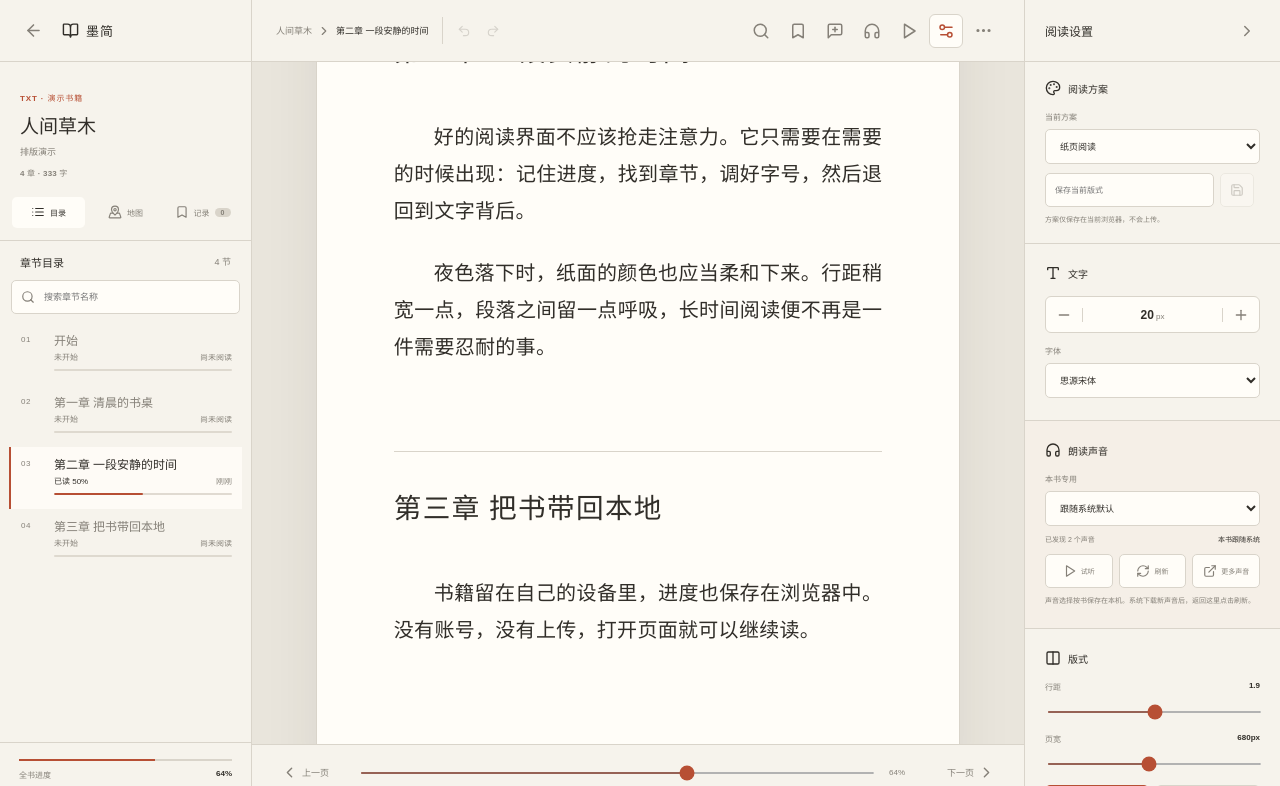
it: ReaderView interactions › supports browser speech narration with sentence focus, pause, resume and adjustable rate
(page scrolled)
Select "云希 · zh-CN · 联网" in the dropdown named "本书朗读声音" at point(1152, 509), box [1045,491,1260,526]
Click the button with aria-label "试听当前声音" at point(1079, 571), box [1045,554,1113,588]
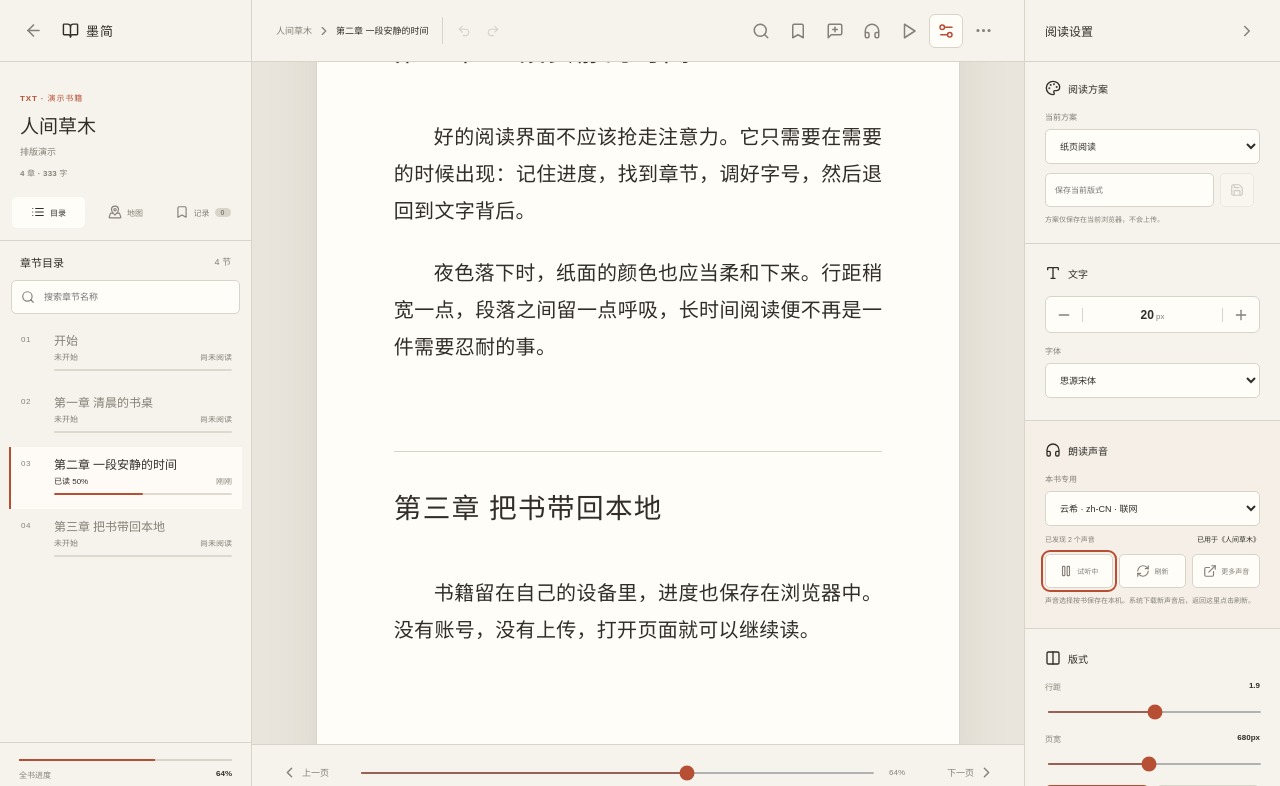
Click the button named "开始语音朗读" at point(872, 30), box [855,14,889,48]
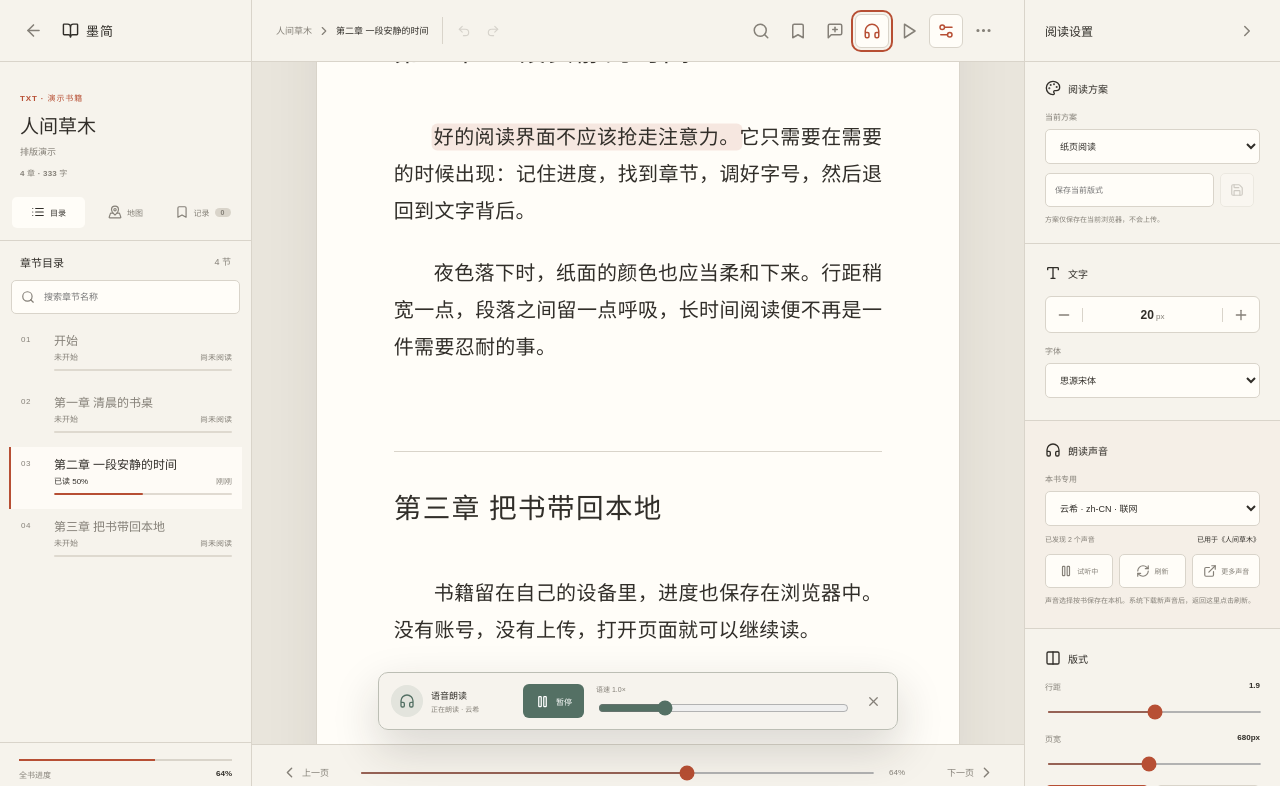
Expected: the text "好的阅读界面不应该抢走注意力。" is shown, [434,126,740,148]
Expected: the text "正在朗读" is shown, [431,706,459,712]
Expected: the text "云希" is shown, [465,706,479,712]
Click the button with aria-label "暂停语音朗读" at point(554, 701), box [523,684,584,718]
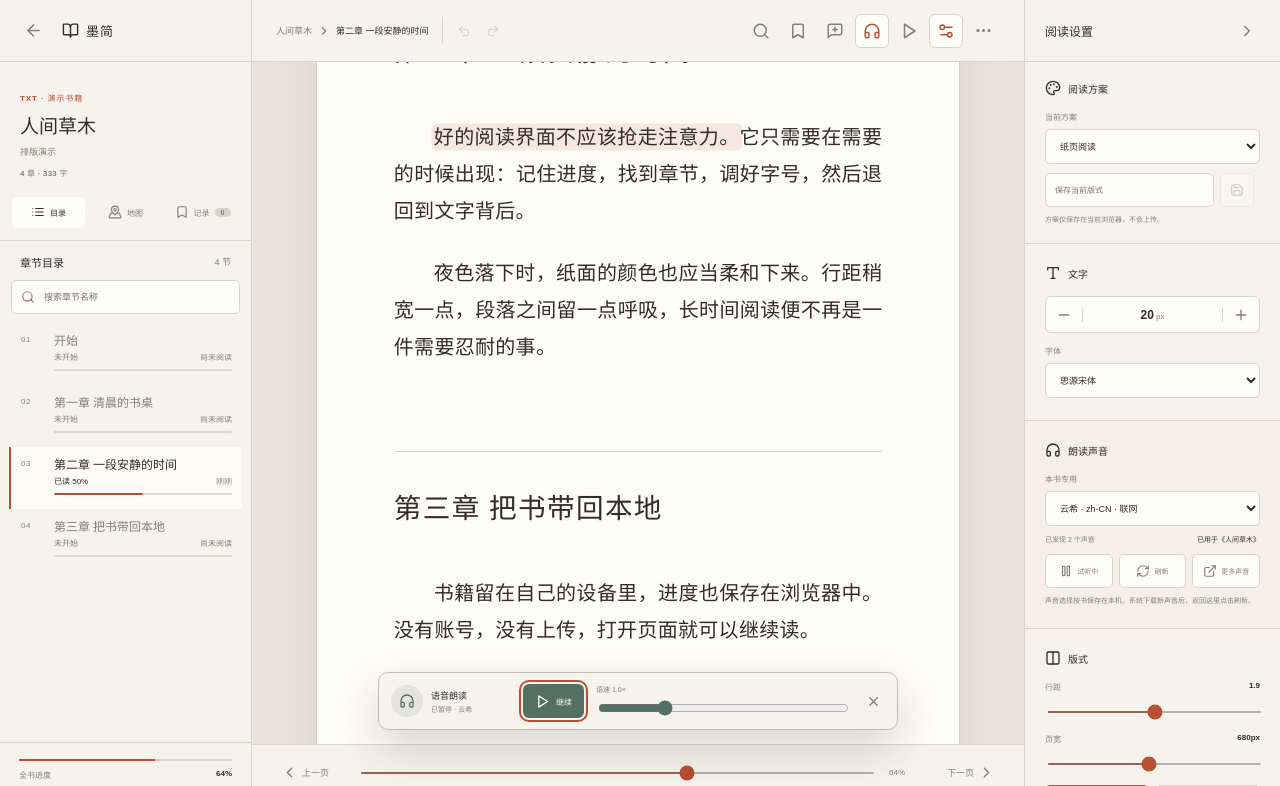
Expected: the text "已暂停" is shown, [431,706,452,712]
Click the button with aria-label "继续语音朗读" at point(554, 701), box [523,684,584,718]
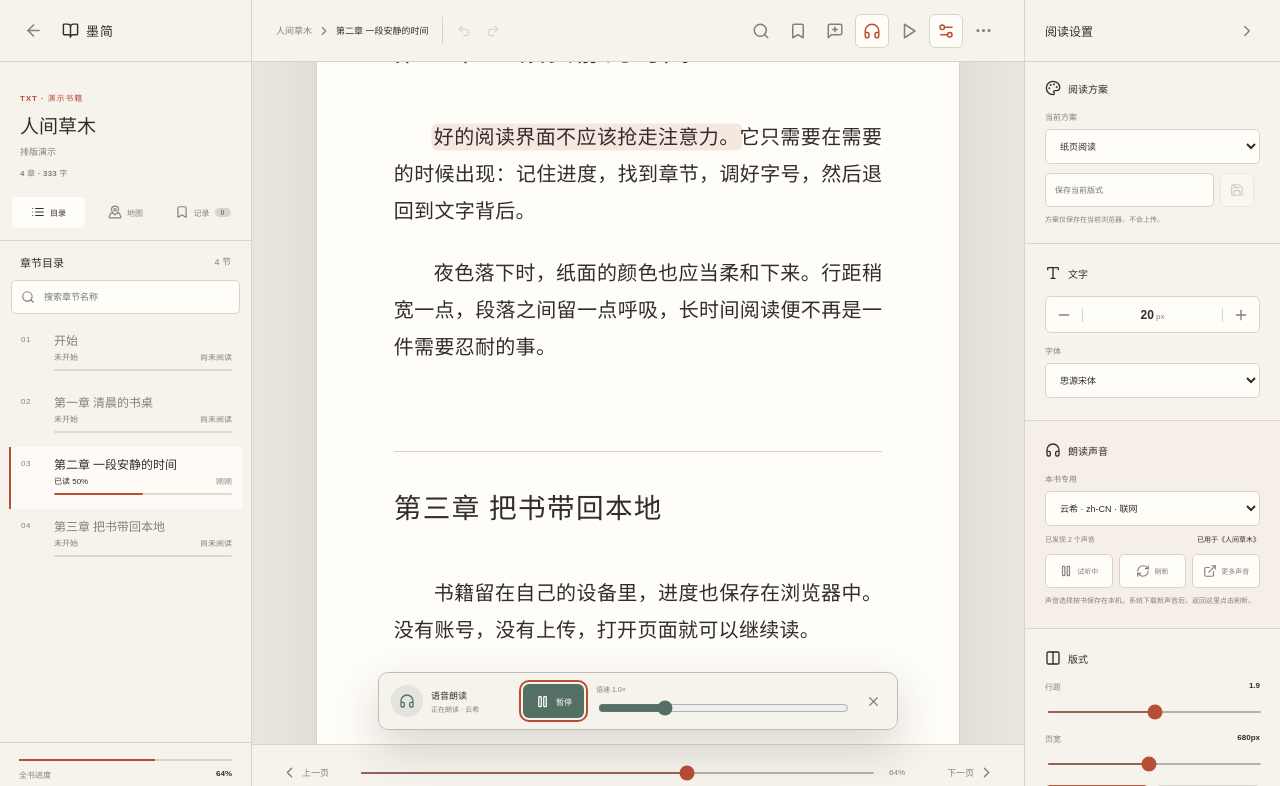
Set the slider named "语音朗读速度" to "1.8" at point(759, 708), box [598,700,849,716]
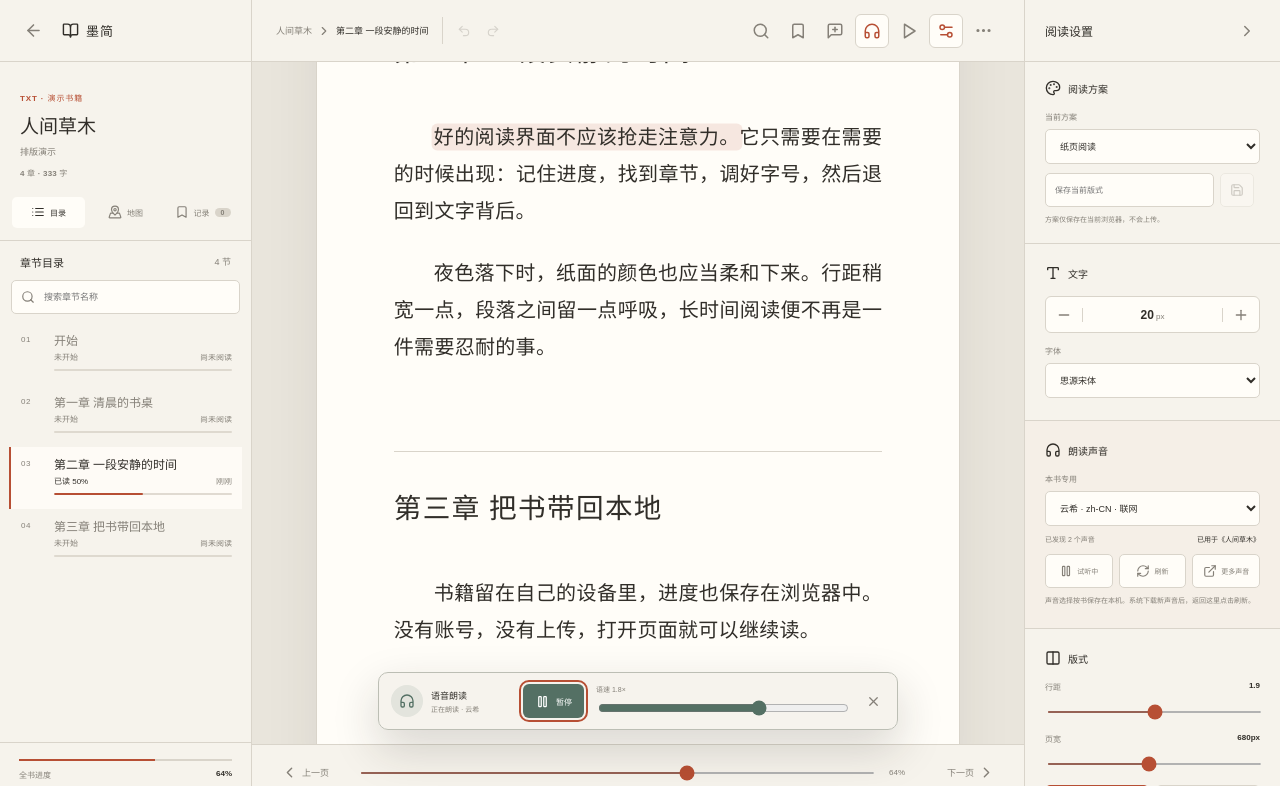
Click the button named "关闭语音朗读" at point(873, 701), box [859,687,887,715]
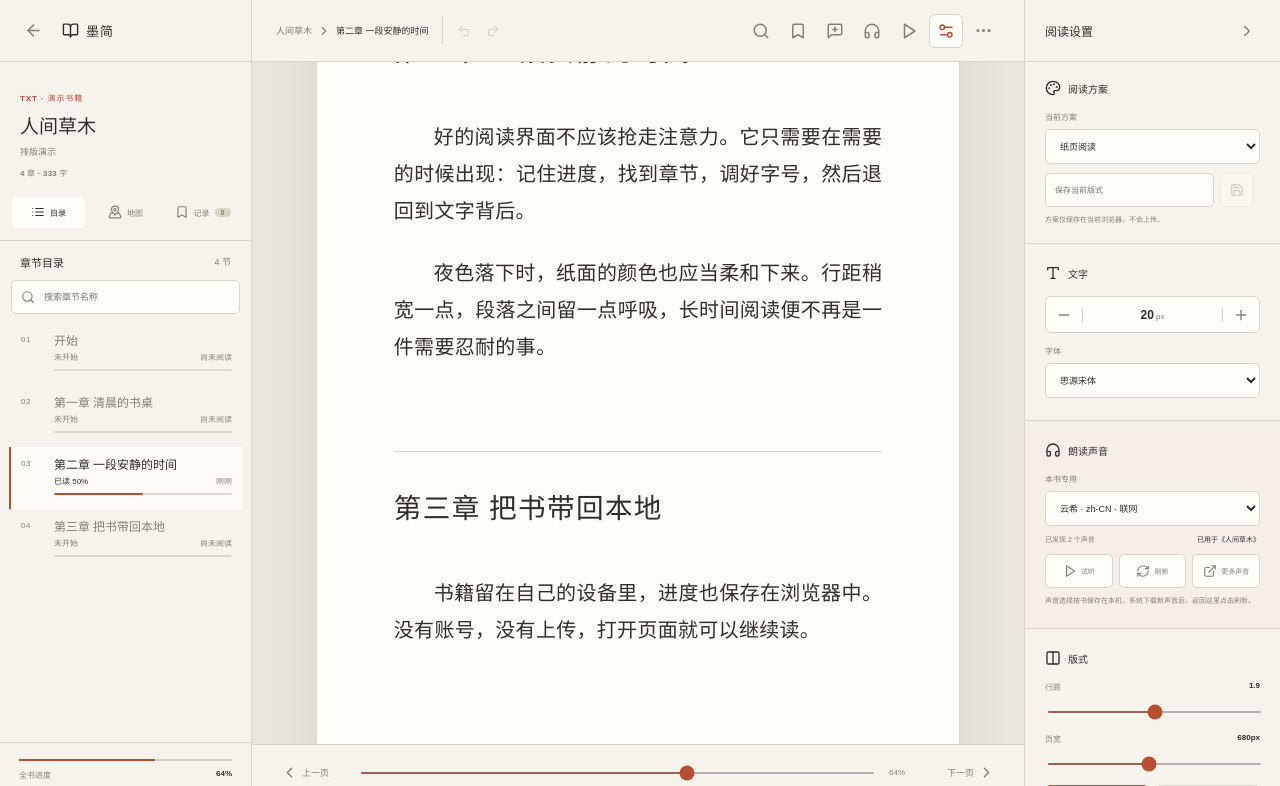
Expected: the element "语音朗读控制" is gone
